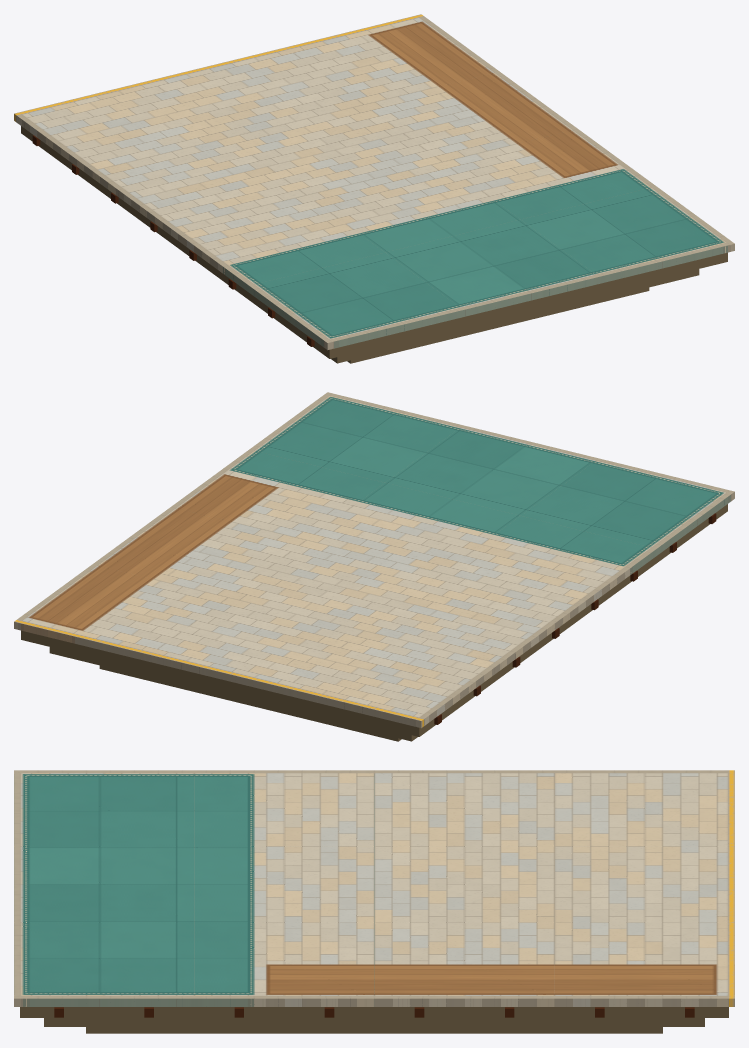
File: lobby.glb
3 renders of one model, top to bottom at view 1: azimuth 30°, elevation 25°; view 2: azimuth 150°, elevation 25°; view 3: azimuth 270°, elevation 25°, orthographic. The views are drawn at different scales.
Visible parts, largest first — view 1: Lobby_Floor_00, Lobby_Floor_01, Lobby_Floor_02, Lobby_Floor_10, Lobby_Floor_30, Lobby_Floor_20, Lobby_Floor_11, Lobby_Floor_21, Lobby_Floor_31, Lobby_Floor_22, Lobby_Floor_32, Lobby_Floor_12 (+1 smaller); view 2: Lobby_Floor_30, Lobby_Floor_31, Lobby_Floor_32, Lobby_Floor_20, Lobby_Floor_00, Lobby_Floor_10, Lobby_Floor_21, Lobby_Floor_11, Lobby_Floor_01, Lobby_Floor_02, Lobby_Floor_12, Lobby_Floor_22 (+1 smaller); view 3: Lobby_Base, Lobby_Floor_12, Lobby_Floor_02, Lobby_Floor_22, Lobby_Floor_32, Lobby_Floor_01, Lobby_Floor_10, Lobby_Floor_11, Lobby_Floor_21, Lobby_Floor_31, Lobby_Floor_00, Lobby_Floor_20 (+2 smaller).
Boxes of the visible parts, x1,y1,x2,y2 form: Lobby_Floor_00: [249, 252, 463, 350]; Lobby_Floor_01: [385, 219, 599, 316]; Lobby_Floor_02: [521, 186, 734, 283]; Lobby_Floor_10: [170, 195, 384, 292]; Lobby_Floor_30: [14, 80, 227, 177]; Lobby_Floor_20: [92, 138, 305, 234]; Lobby_Floor_11: [307, 162, 520, 252]; Lobby_Floor_21: [228, 105, 441, 195]; Lobby_Floor_31: [150, 47, 363, 137]; Lobby_Floor_22: [364, 71, 577, 161]; Lobby_Floor_32: [286, 14, 499, 104]; Lobby_Floor_12: [442, 129, 655, 219]; Lobby_Floor_30: [285, 630, 499, 728]; Lobby_Floor_31: [149, 597, 363, 694]; Lobby_Floor_32: [14, 564, 227, 661]; Lobby_Floor_20: [364, 573, 578, 670]; Lobby_Floor_00: [521, 458, 734, 555]; Lobby_Floor_10: [443, 516, 656, 612]; Lobby_Floor_21: [228, 540, 441, 630]; Lobby_Floor_11: [307, 483, 520, 573]; Lobby_Floor_01: [385, 425, 598, 515]; Lobby_Floor_02: [249, 392, 462, 482]; Lobby_Floor_12: [171, 449, 384, 539]; Lobby_Floor_22: [93, 507, 306, 597]; Lobby_Base: [20, 1007, 728, 1033]; Lobby_Floor_12: [194, 922, 374, 1006]; Lobby_Floor_02: [14, 922, 194, 1006]; Lobby_Floor_22: [374, 922, 554, 1006]; Lobby_Floor_32: [554, 922, 734, 1006]; Lobby_Floor_01: [14, 846, 194, 922]; Lobby_Floor_10: [194, 770, 374, 846]; Lobby_Floor_11: [194, 846, 374, 922]; Lobby_Floor_21: [374, 846, 554, 922]; Lobby_Floor_31: [554, 846, 734, 922]; Lobby_Floor_00: [14, 770, 194, 846]; Lobby_Floor_20: [374, 770, 554, 846].
Size of the model in its own units: 180 by 24 by 240.
Materials: 14 (14 with a texture image).
